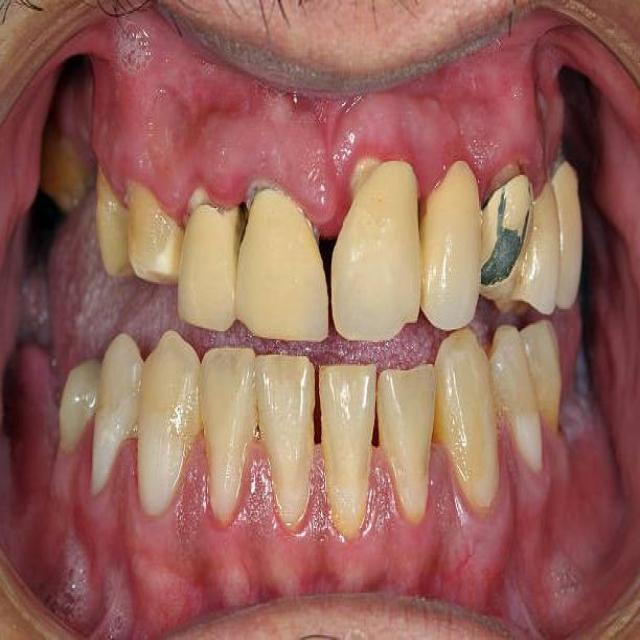caries: (242, 170, 285, 227), (482, 152, 524, 208)
